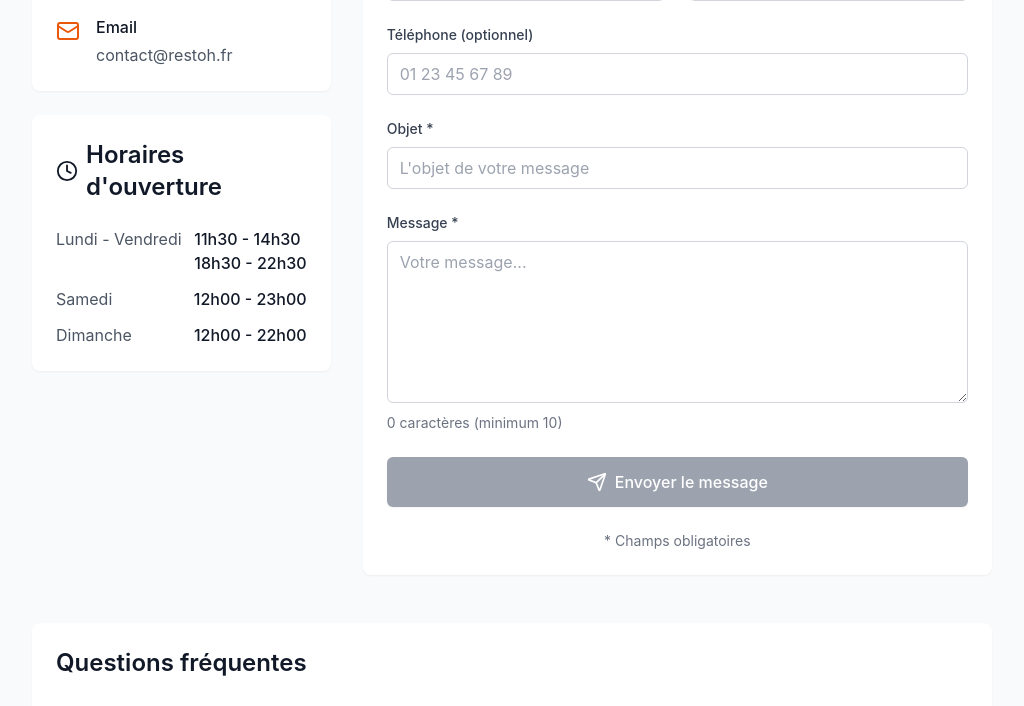
Contact Component › should display character count for message field
(page scrolled)
Check: the text "0 caractères (minimum 10)" is shown, box [387,414,562,431]
Note: Type message and check counter updates
Type "Test message" into the text box with placeholder "Votre message..." at (677, 322), box [387,241,968,403]
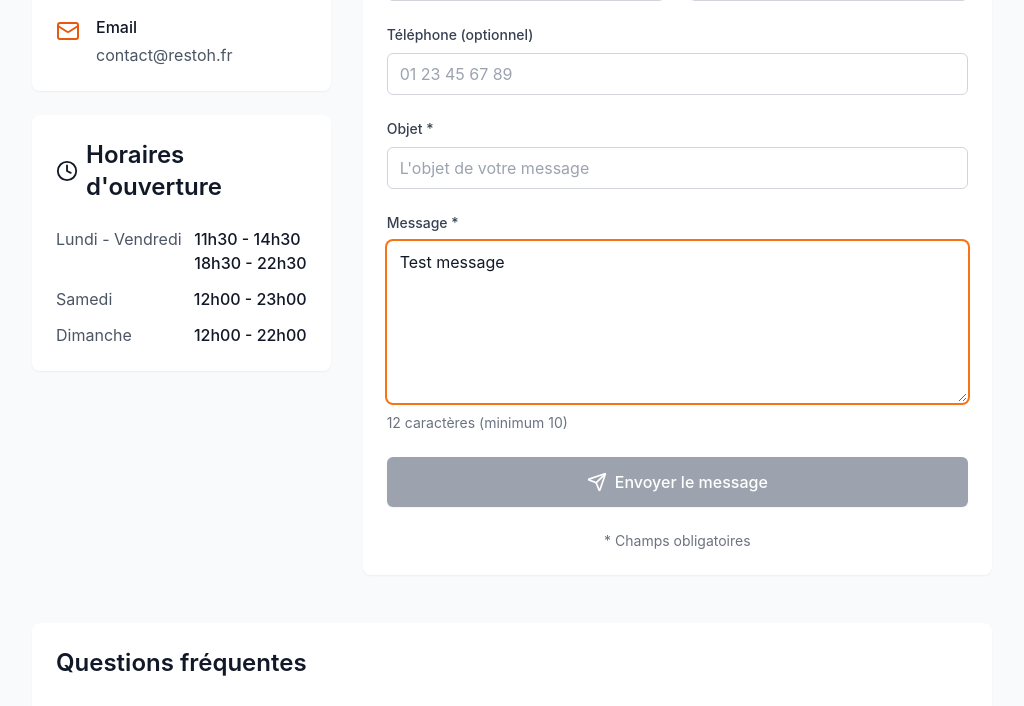
Check: the text "12 caractères (minimum 10)" is shown, box [387,414,568,431]
